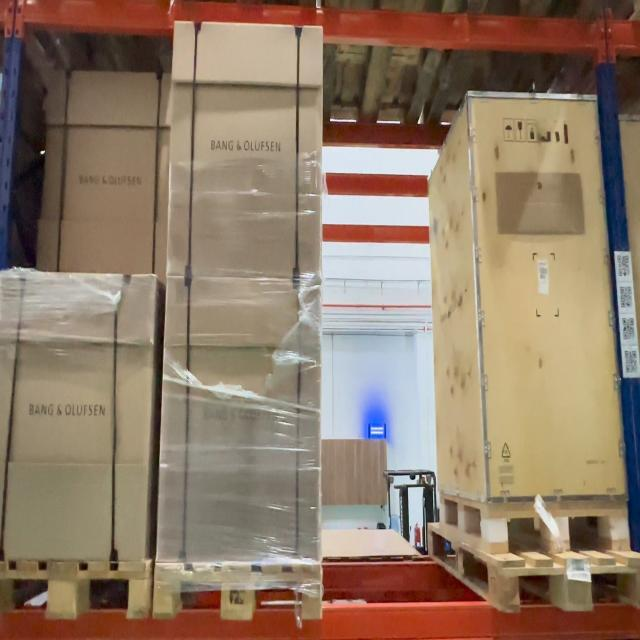box: (489, 95, 596, 487), (169, 289, 317, 552), (174, 28, 320, 274)
